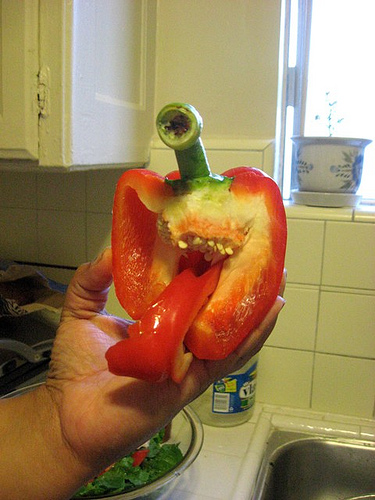capsicum: (108, 106, 282, 376)
